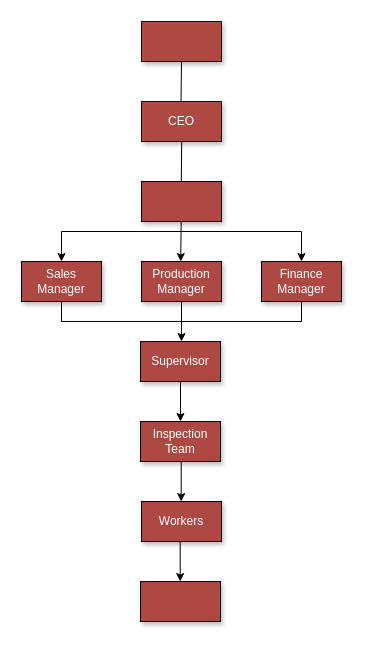
Image size: 365x646. Some labels were removed from this diagram. Here are the shapes that lost their labels. From the top down, the centre of each, then its label:
At point 182,42: "Board of Director".
At point 182,202: "General Manager".
At point 181,602: "Peons".
